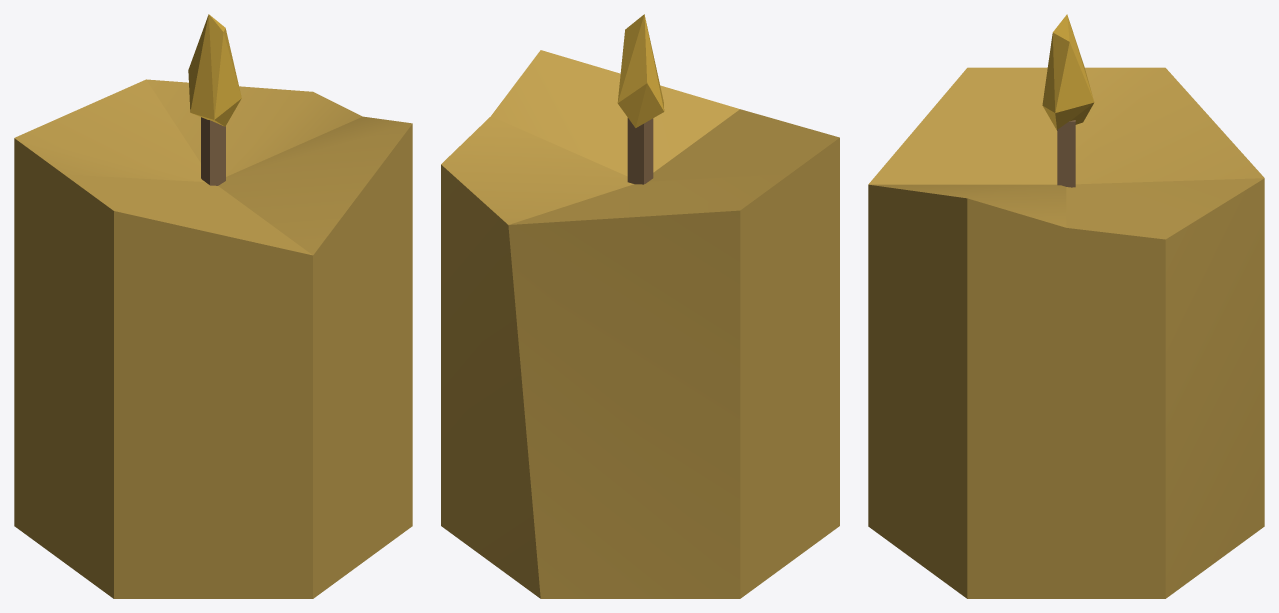
The model's file is Candle_01.fbx.
The picture shows the model from 3 angles, left to right: view 1: azimuth 30°, elevation 25°; view 2: azimuth 150°, elevation 25°; view 3: azimuth 270°, elevation 25°; orthographic projection.
Parts seen in each view (by area): view 1: Candle_01; view 2: Candle_01; view 3: Candle_01.
Boxes of the visible parts, x1=… form: Candle_01: x1=14, y1=14, x2=412, y2=598; Candle_01: x1=441, y1=14, x2=839, y2=598; Candle_01: x1=868, y1=14, x2=1264, y2=598.
Bounding box in the file's own units: 0.195 × 0.3197 × 0.2252.
